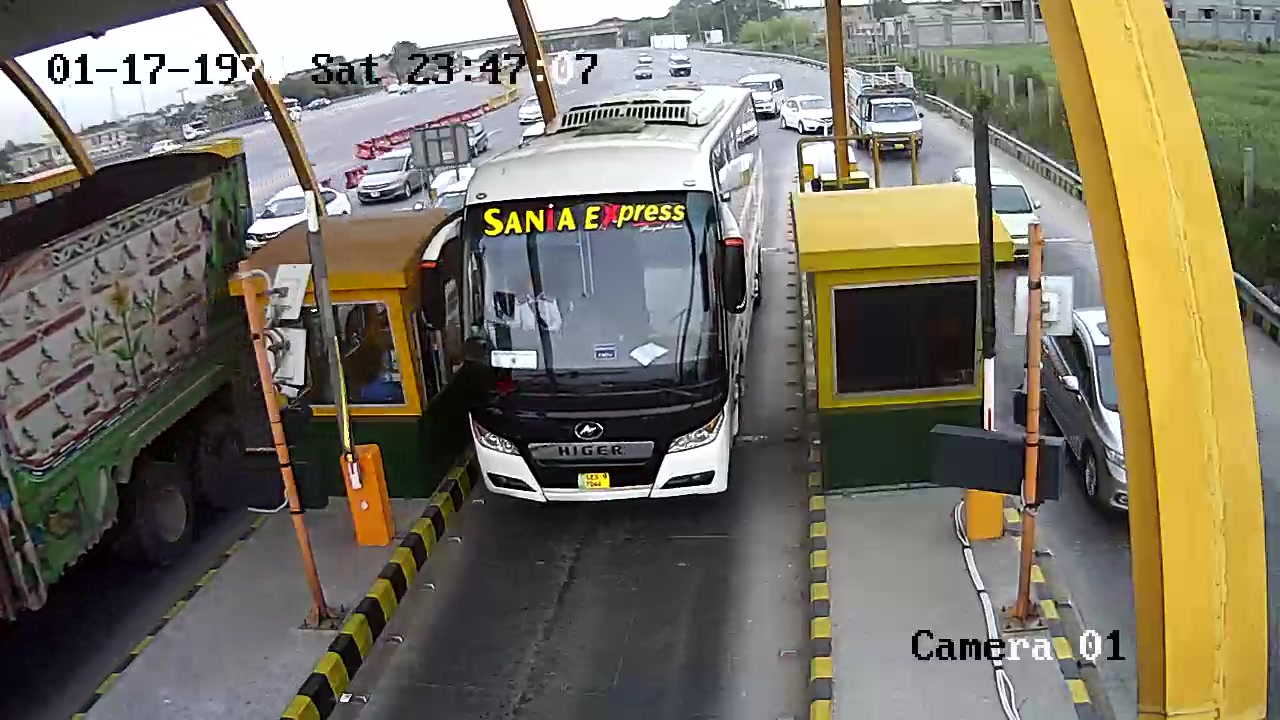F4: (451, 84, 770, 518)
